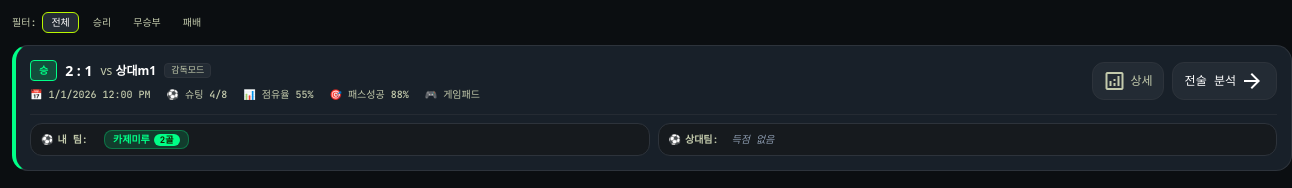
Scenario: MatchHistoryList › 필터 결과가 없으면 안내를 보여준다
Click the button "패배" at coordinates (192, 22), box [175,13,209,32]
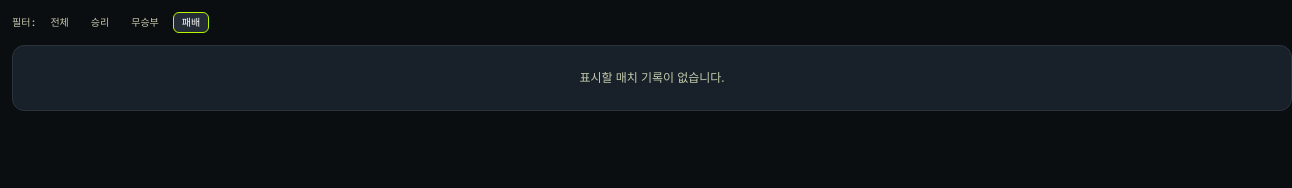
Check: the text "표시할 매치 기록이 없습니다." is shown, box [12,45,1291,111]
